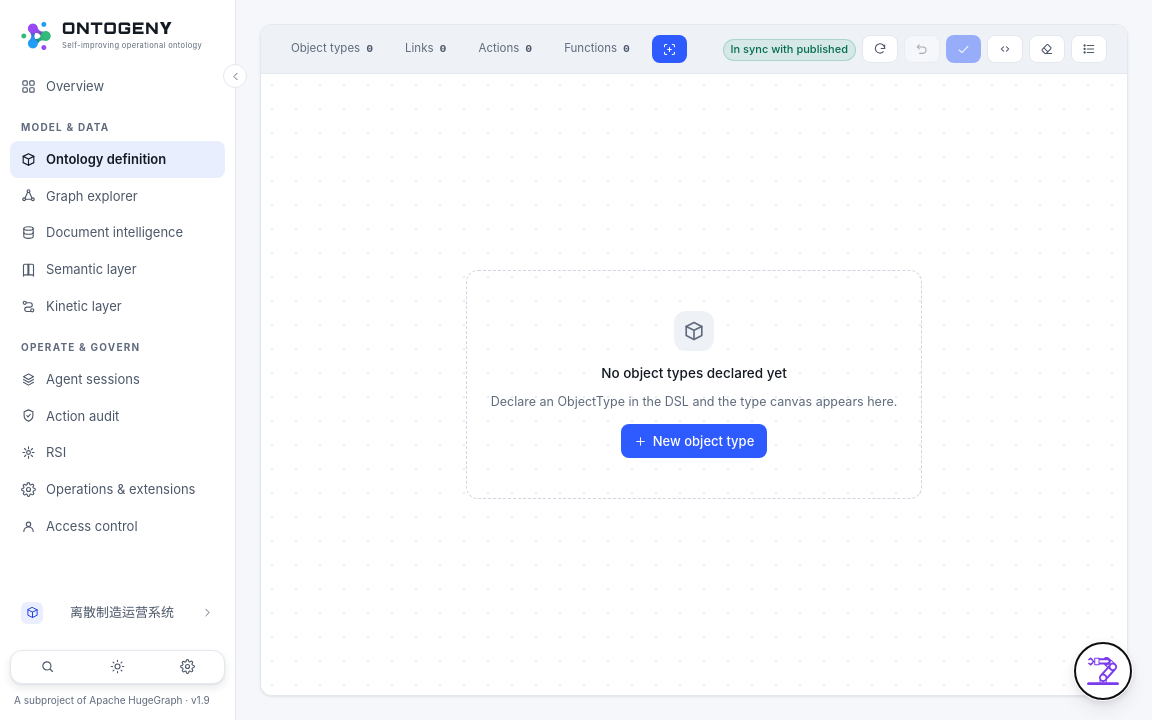
Scenario: App shell › puts the ontology context bar at the foot of the sidebar, not over the page
The image size is (1152, 720).
Click the button with test id "domain-switcher": (118, 613) [10,594,225,632]
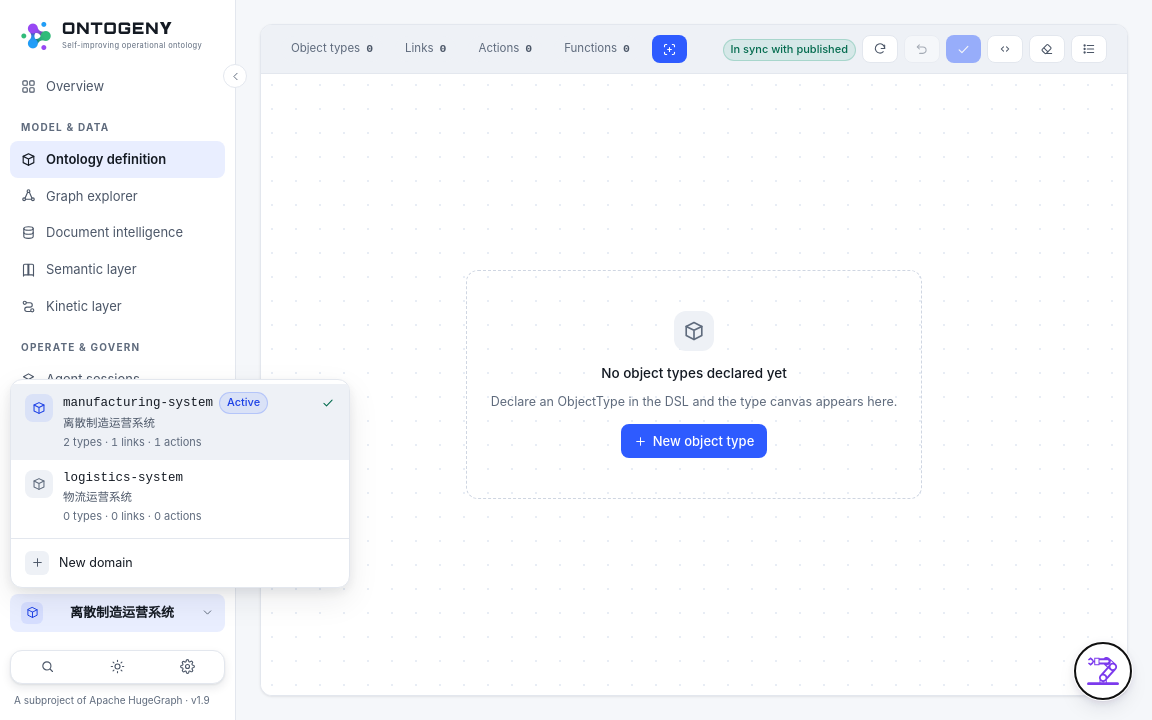
Expected: the element with test id "ontology-toolbar" is shown, [281,35,1107,63]
Now the option with test id "domain-option-logistics-system" is shown, box [11,460,349,534]
Now the button with test id "domain-create" is shown, box [17,543,343,583]
